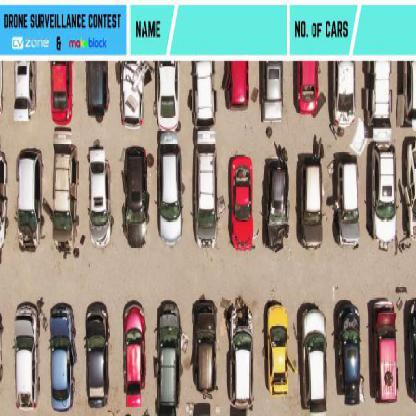car: (50, 129, 77, 252), (156, 300, 183, 415), (193, 131, 219, 248), (48, 303, 76, 410), (228, 298, 254, 413), (336, 302, 364, 407), (122, 146, 150, 247), (158, 138, 184, 245), (300, 306, 326, 412), (84, 303, 110, 408), (260, 156, 289, 250), (18, 148, 44, 250), (191, 298, 218, 395), (12, 303, 36, 410), (89, 144, 113, 250), (124, 302, 147, 412), (375, 301, 398, 407), (229, 156, 254, 252), (377, 139, 398, 244), (267, 304, 290, 397), (301, 159, 323, 252), (339, 156, 360, 250), (116, 62, 145, 128), (366, 61, 391, 132), (330, 62, 356, 129), (257, 61, 285, 121), (191, 61, 217, 124), (292, 61, 320, 116), (83, 62, 109, 119), (224, 62, 252, 113), (159, 62, 179, 128), (404, 295, 415, 404), (404, 140, 415, 240), (52, 63, 70, 124), (399, 61, 415, 125), (15, 63, 31, 122)
